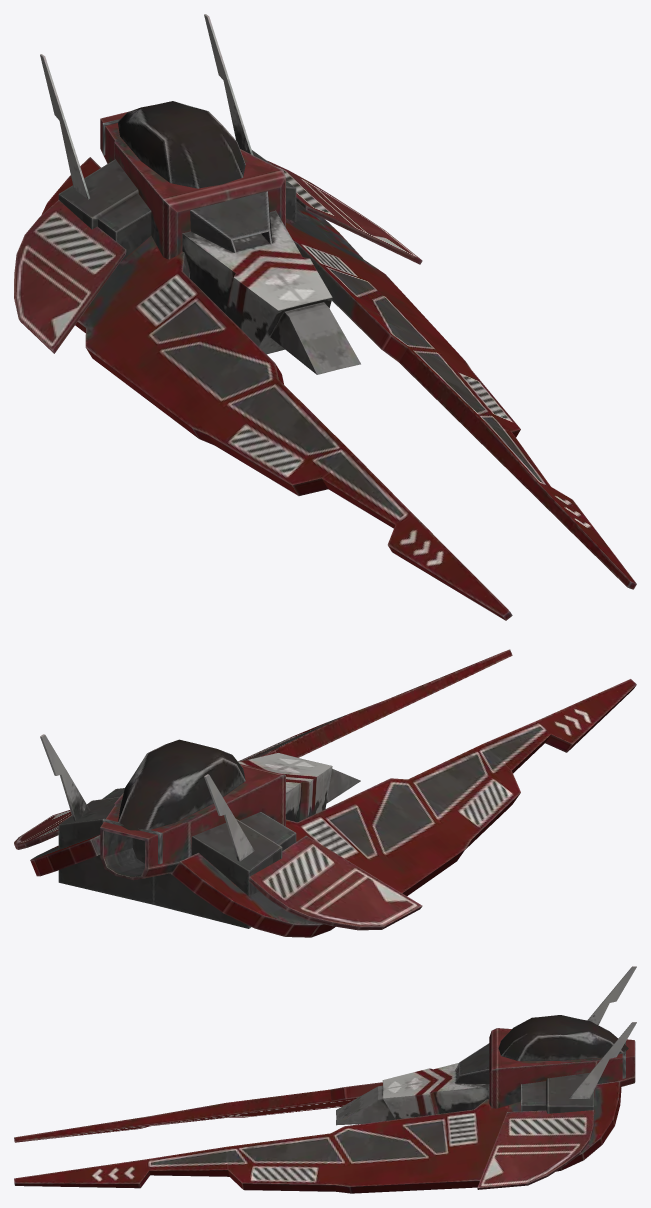
Rendered from ship-dispatcher.gltf.
The picture shows the model from 3 angles, top to bottom: view 1: azimuth 30°, elevation 25°; view 2: azimuth 150°, elevation 25°; view 3: azimuth 270°, elevation 25°; orthographic projection. The views are drawn at different scales.
Parts seen in each view (by area): view 1: dispatcher; view 2: dispatcher; view 3: dispatcher.
Part boxes in pixels (x1=…): dispatcher: x1=14, y1=14, x2=636, y2=620; dispatcher: x1=14, y1=649, x2=636, y2=937; dispatcher: x1=14, y1=966, x2=636, y2=1193.
Size of the model in its own units: 4.9 by 3.09 by 10.26.
1 material, 1 textured.
